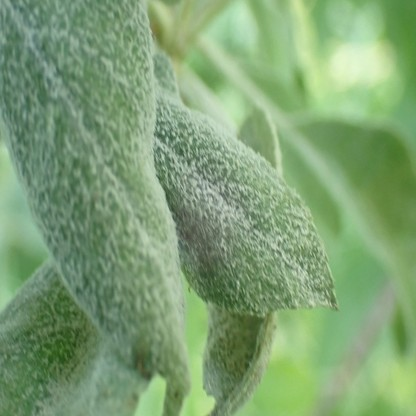powder: (0, 2, 192, 416), (154, 41, 340, 313), (0, 257, 156, 415), (202, 313, 277, 416), (237, 105, 281, 171), (153, 50, 177, 93)
